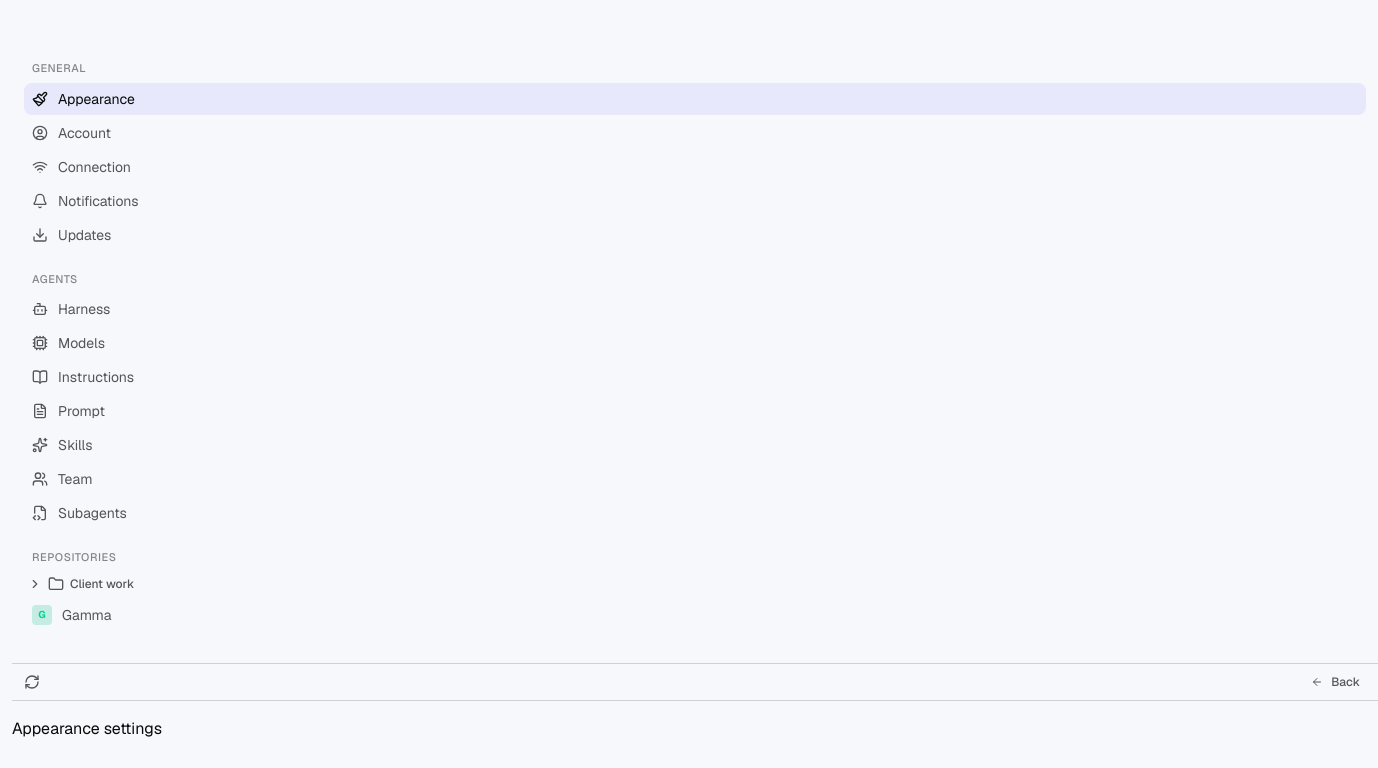
it: SettingsSidebar › navigates to notifications settings
Click the link "Notifications": [85, 200] box [32, 192, 138, 210]
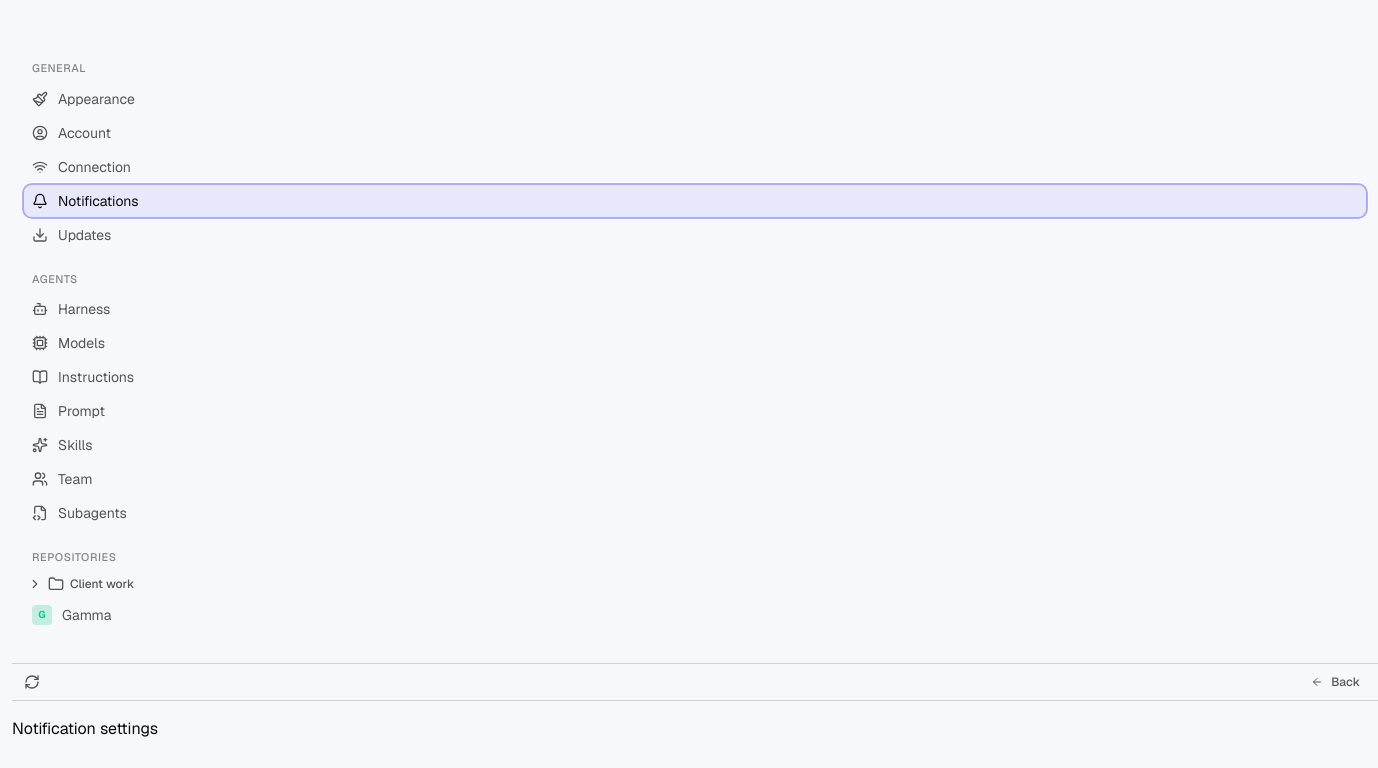
Expected: the text "Notification settings" is shown, [12, 718, 158, 739]
